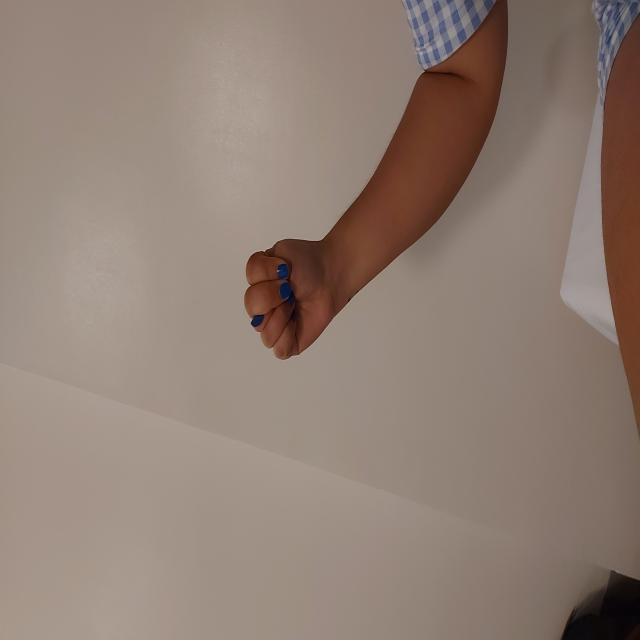N: (279, 242, 405, 337)
